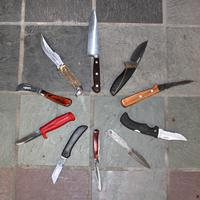knife: (108, 21, 197, 178), (11, 30, 89, 191), (79, 5, 107, 96), (88, 125, 109, 200)
